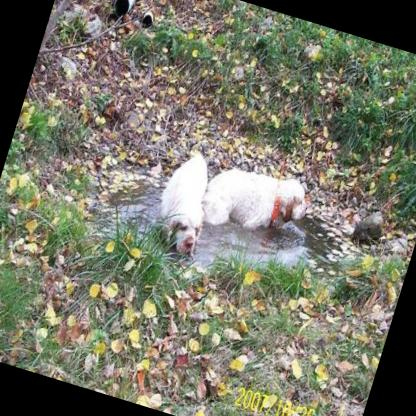clumber: (195, 153, 314, 249), (144, 140, 225, 262)
